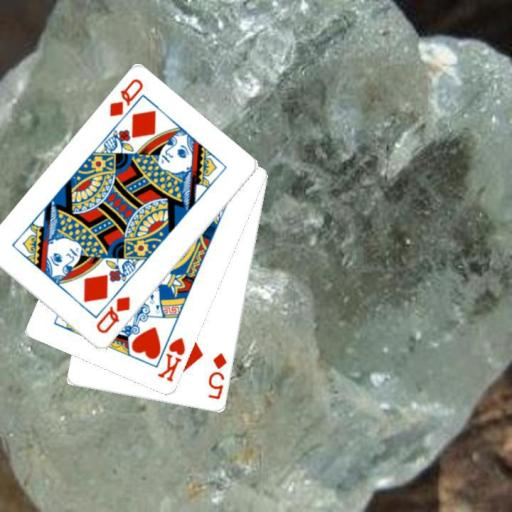5D: (205, 350, 229, 401)
KH: (154, 334, 187, 384)
QD: (93, 293, 133, 336), (106, 75, 145, 119)
